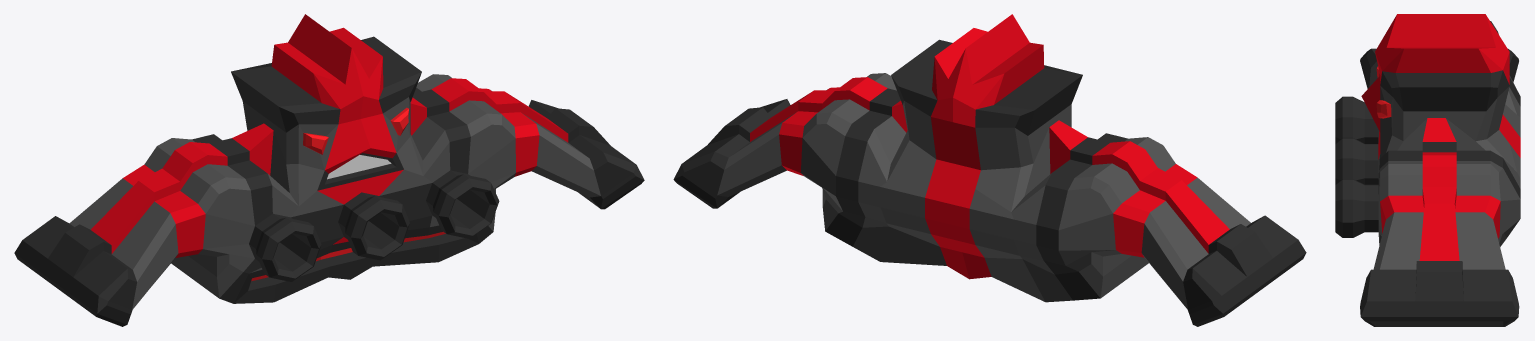
File: BossLv2.fbx
3 renders of one model, left to right at view 1: azimuth 30°, elevation 25°; view 2: azimuth 150°, elevation 25°; view 3: azimuth 270°, elevation 25°, orthographic. The views are drawn at different scales.
Parts seen in each view (by area): view 1: Cube; view 2: Cube; view 3: Cube.
Part boxes in pixels (x1,y1,x2,y2): Cube: (14, 14, 644, 326); Cube: (673, 14, 1306, 326); Cube: (1335, 14, 1520, 326).
Bounding box in the file's own units: 1884 × 765 × 580.
